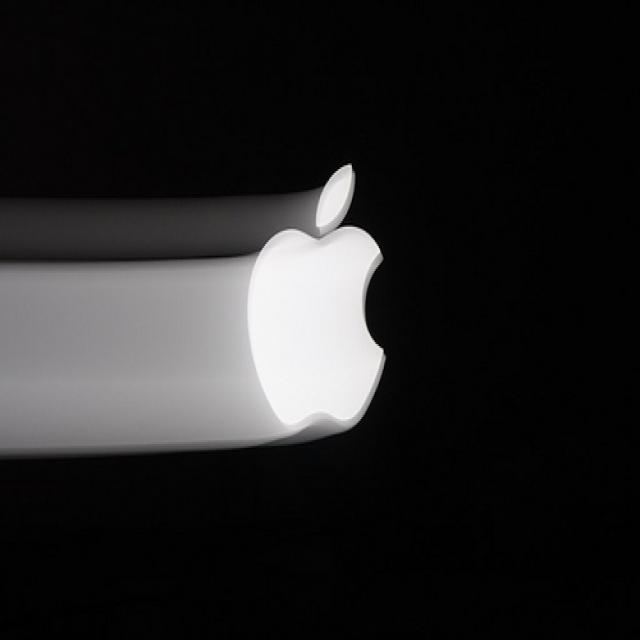apple: (238, 153, 394, 439)
